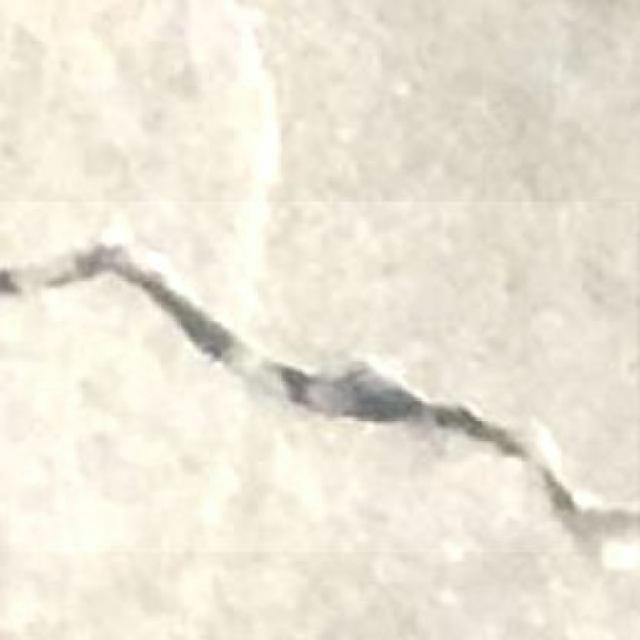crack: (0, 206, 640, 582)
